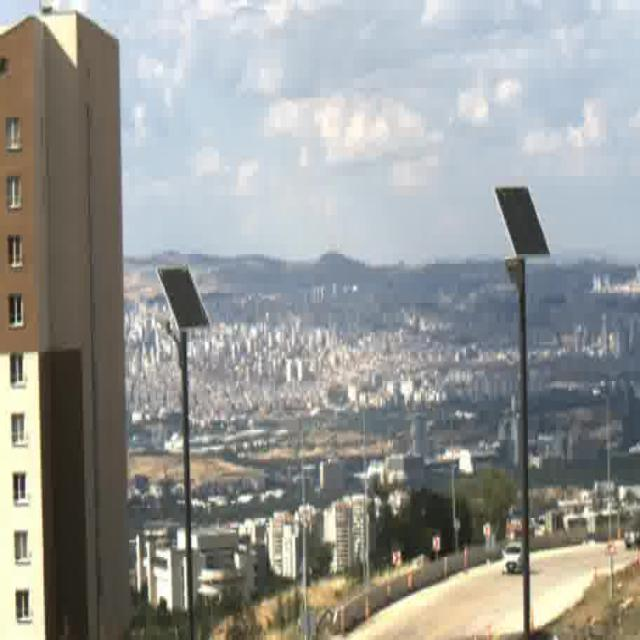Car: (502, 541, 523, 574), (624, 518, 640, 546)
